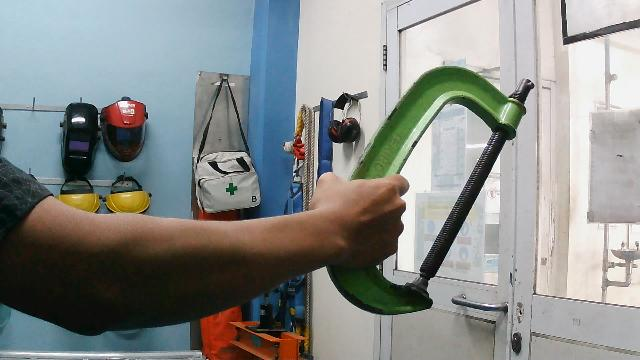tekiro_c_clamp: (322, 63, 539, 315)
